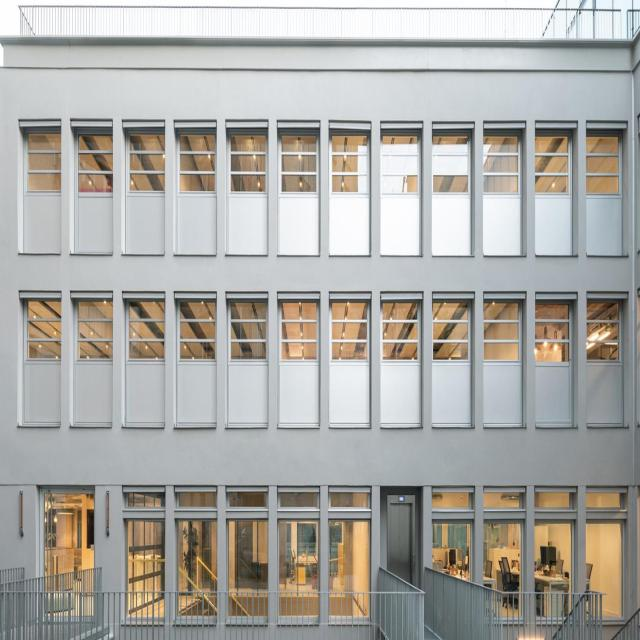Railing: (0, 560, 424, 639), (17, 1, 621, 42), (424, 569, 603, 639)
door: (387, 494, 416, 578)
wall: (0, 3, 639, 639)
windows: (38, 486, 96, 618), (586, 495, 626, 616), (533, 492, 573, 613), (483, 495, 523, 615), (124, 482, 166, 593), (174, 487, 218, 591), (330, 490, 371, 594), (277, 488, 318, 592), (226, 488, 266, 592), (434, 492, 472, 575), (486, 299, 521, 357), (285, 297, 320, 355), (434, 302, 469, 360), (486, 299, 521, 357), (126, 134, 161, 191), (331, 135, 366, 192), (28, 300, 63, 357), (80, 297, 115, 354), (181, 296, 216, 353), (233, 301, 268, 358), (386, 297, 421, 354), (78, 131, 112, 189), (179, 130, 213, 188), (231, 135, 265, 193), (283, 132, 317, 190), (384, 131, 418, 189), (432, 137, 466, 195), (587, 298, 621, 356), (129, 299, 163, 357), (587, 298, 621, 356), (26, 135, 60, 192), (535, 302, 569, 359), (334, 300, 368, 357), (535, 302, 569, 359)
